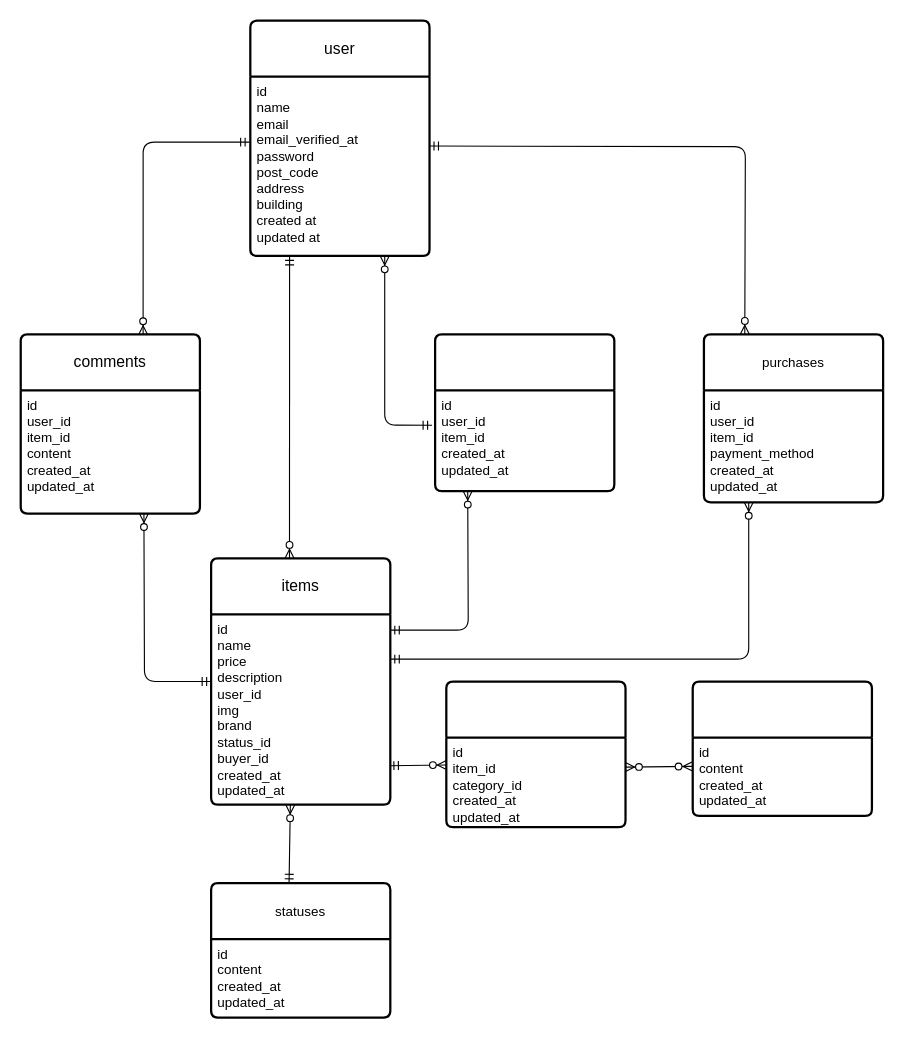
Some shapes in this 903 by 1037 pixel diagram are drawn without their labels. Here are the shapes that lost their labels. From the top down, the box of each, then its label:
(433, 333, 615, 492): favorit
(445, 680, 626, 828): category item
(691, 680, 872, 816): categories
